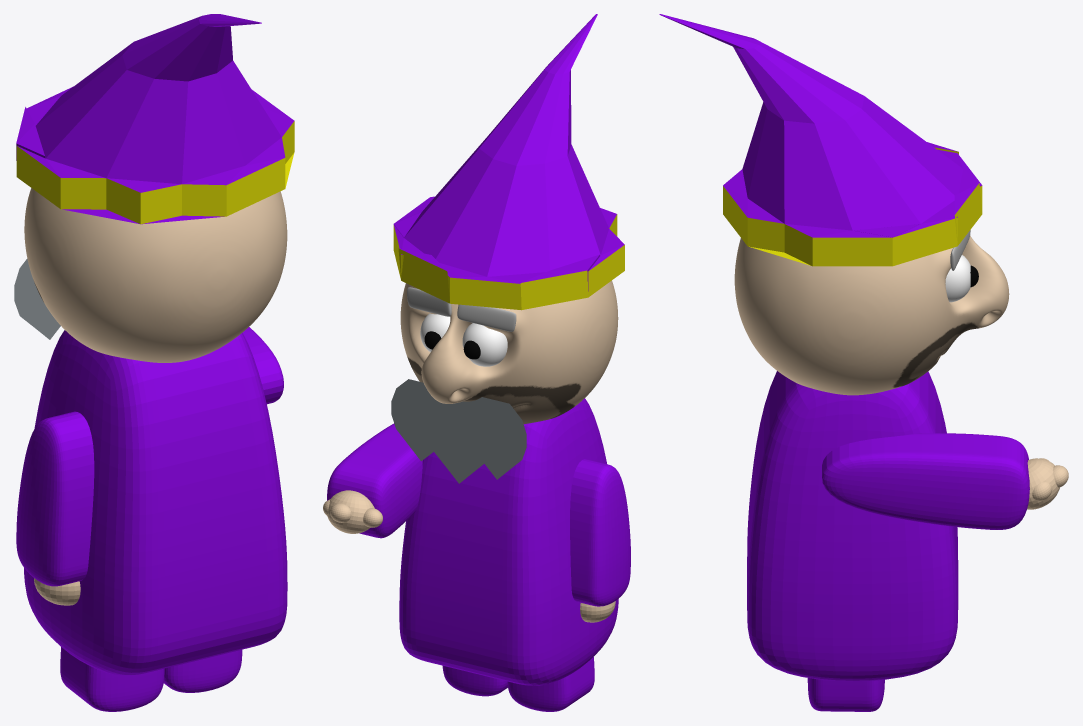
The model's file is Wizard.fbx.
The picture shows the model from 3 angles, left to right: view 1: azimuth 30°, elevation 25°; view 2: azimuth 150°, elevation 25°; view 3: azimuth 270°, elevation 25°; orthographic projection. The views are drawn at different scales.
Parts seen in each view (by area): view 1: Cube.001, Cube.006, Cube.008, Cube.010, Cube.009, Grid, Cube.007, Sphere.004; view 2: Cube.001, Cube.006, Grid, Cube.008, Cube.007, Cube.010, Cube.005, Cube.002, Cube.009, Sphere, Cube, Sphere.004; view 3: Cube.001, Cube.006, Cube.007, Cube.009, Sphere, Cube.
Boxes of the visible parts, bbox=[...] form: Cube.001: bbox=[16, 14, 294, 362]; Cube.006: bbox=[24, 330, 287, 675]; Cube.008: bbox=[16, 411, 94, 586]; Cube.010: bbox=[60, 647, 164, 711]; Cube.009: bbox=[163, 649, 242, 692]; Grid: bbox=[14, 259, 60, 339]; Cube.007: bbox=[242, 327, 283, 404]; Sphere.004: bbox=[34, 578, 80, 605]; Cube.001: bbox=[393, 14, 624, 424]; Cube.006: bbox=[399, 398, 618, 685]; Grid: bbox=[391, 379, 526, 483]; Cube.008: bbox=[570, 459, 630, 606]; Cube.007: bbox=[327, 423, 422, 538]; Cube.010: bbox=[507, 656, 594, 711]; Cube.005: bbox=[407, 287, 516, 331]; Cube.002: bbox=[462, 323, 507, 366]; Cube.009: bbox=[442, 666, 507, 696]; Sphere: bbox=[327, 490, 374, 533]; Cube: bbox=[420, 313, 450, 352]; Sphere.004: bbox=[580, 601, 615, 622]; Cube.001: bbox=[659, 14, 1009, 395]; Cube.006: bbox=[747, 371, 958, 681]; Cube.007: bbox=[822, 433, 1029, 529]; Cube.009: bbox=[807, 678, 884, 711]; Sphere: bbox=[1027, 458, 1059, 509]; Cube: bbox=[945, 255, 970, 302].
Bounding box in the file's own units: 43.17 × 118 × 65.11.
